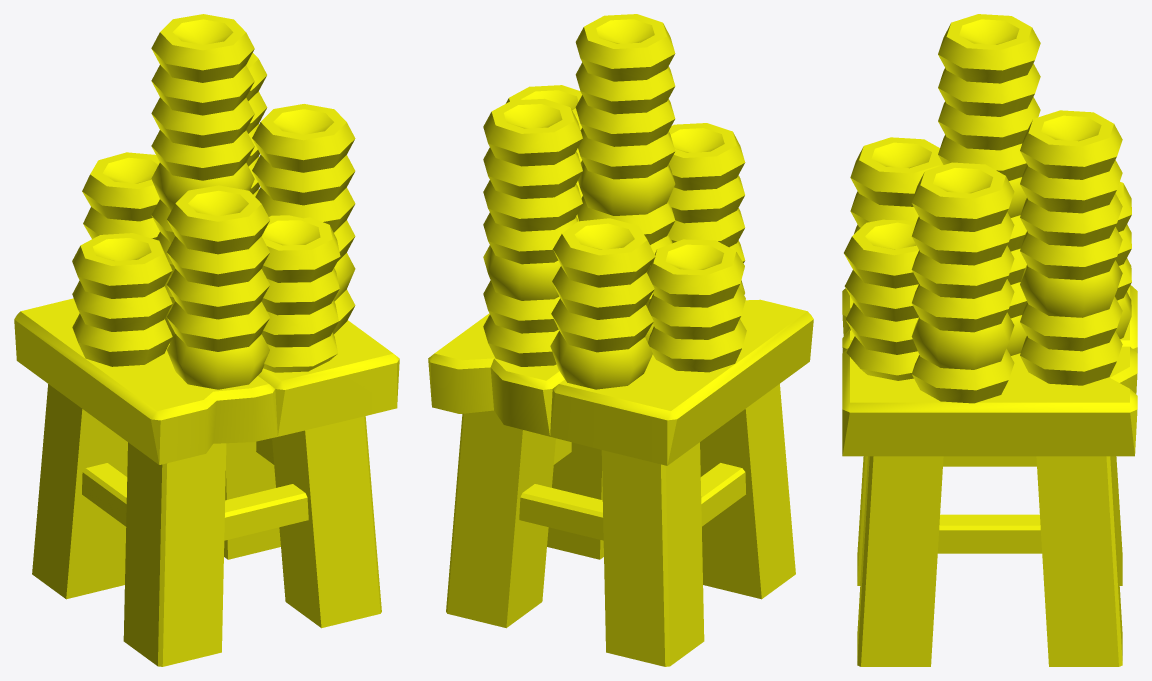
The model's file is kaykit-table-small-decorated-b.glb.
3 renders of one model, left to right at view 1: azimuth 30°, elevation 25°; view 2: azimuth 150°, elevation 25°; view 3: azimuth 270°, elevation 25°, orthographic. The views are drawn at different scales.
Parts seen in each view (by area): view 1: table_small_decorated_B; view 2: table_small_decorated_B; view 3: table_small_decorated_B.
Part boxes in pixels (x1,y1,x2,y2): table_small_decorated_B: [14, 14, 399, 666]; table_small_decorated_B: [428, 14, 813, 666]; table_small_decorated_B: [842, 14, 1137, 666].
Bounding box in the file's own units: 1.01 × 2.16 × 1.
